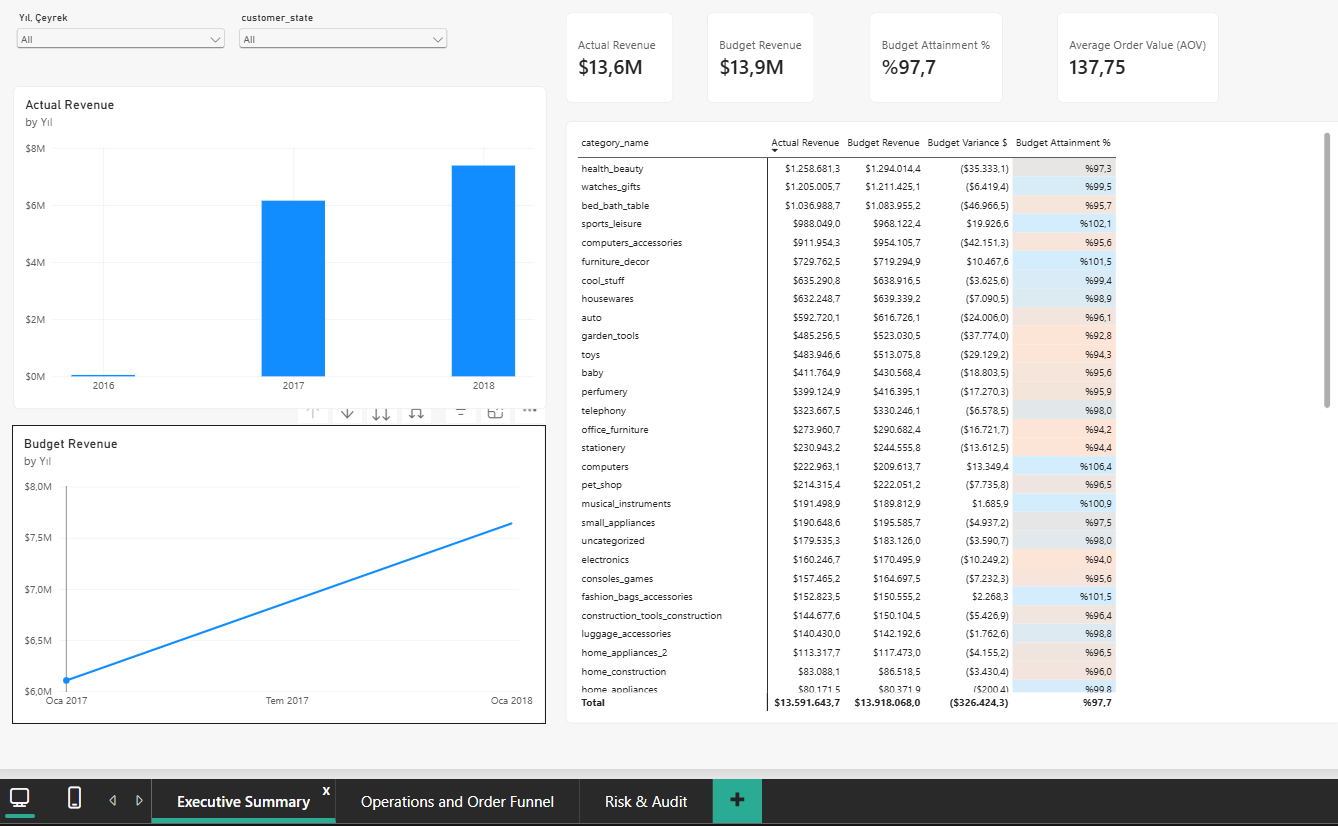

Layout of this report page (visuals, bound fields, positions):
{"tool":"powerbi","page":{"name":"Executive Summary","canvas":[1920,1080],"ordinal":0},"visuals":[{"type":"pivotTable","fields":{"Rows":["dim_category.category_name"],"Values":["_Measures.Actual Revenue","_Measures.Budget Revenue","_Measures.Budget Variance $","_Measures.Budget Attainment %"]},"box":[800,176,1084,840],"z":0},{"type":"slicer","fields":{"Values":["olist_analytics_warehouse dim_date.date_key.Variation.Tarih Hiyerarşisi.Yıl","olist_analytics_warehouse dim_date.date_key.Variation.Tarih Hiyerarşisi.Çeyrek"]},"box":[30,22.7,300,55.5],"z":1000},{"type":"slicer","fields":{"Values":["olist_analytics_warehouse dim_customers.customer_state"]},"box":[340,23,300,300],"z":2000},{"type":"cardVisual","fields":{"Data":["_Measures.Actual Revenue"]},"box":[800,24,150,126],"z":3000},{"type":"cardVisual","fields":{"Data":["_Measures.Budget Revenue"]},"box":[998,24,150,126],"z":4000},{"type":"cardVisual","fields":{"Data":["_Measures.Budget Attainment %"]},"box":[1224,24,186,126],"z":5000},{"type":"cardVisual","fields":{"Data":["_Measures.Average Order Value (AOV)"]},"box":[1486,24,226,126],"z":6000},{"type":"lineChart","fields":{"Category":["olist_analytics_warehouse dim_date.date_key.Variation.Tarih Hiyerarşisi.Yıl","olist_analytics_warehouse dim_date.date_key.Variation.Tarih Hiyerarşisi.Çeyrek","olist_analytics_warehouse dim_date.date_key.Variation.Tarih Hiyerarşisi.Ay","olist_analytics_warehouse dim_date.date_key.Variation.Tarih Hiyerarşisi.Gün"],"Y":["_Measures.Budget Revenue"]},"box":[28,600,744,416.8],"z":7000},{"type":"clusteredColumnChart","fields":{"Category":["olist_analytics_warehouse dim_date.date_key.Variation.Tarih Hiyerarşisi.Yıl","olist_analytics_warehouse dim_date.date_key.Variation.Tarih Hiyerarşisi.Çeyrek","olist_analytics_warehouse dim_date.date_key.Variation.Tarih Hiyerarşisi.Ay","olist_analytics_warehouse dim_date.date_key.Variation.Tarih Hiyerarşisi.Gün"],"Y":["_Measures.Actual Revenue"]},"box":[30,128,744,450],"z":8000}]}

Visuals, with their boxes on the page's 1920x1080 design canvas (x1, y1, x2, y2). These are canvas units, not pixel positions in the 1338x826 screenshot, which may show the page scaled, cropped or inside an application window:
pivotTable - dim_category.category_name x _Measures.Actual Revenue: x1=800, y1=176, x2=1884, y2=1016
slicer - olist_analytics_warehouse dim_date.date_key.Variation.Tarih Hiyerarşisi.Yıl x olist_analytics_warehouse dim_date.date_key.Variation.Tarih Hiyerarşisi.Çeyrek: x1=30, y1=23, x2=330, y2=78
slicer - olist_analytics_warehouse dim_customers.customer_state: x1=340, y1=23, x2=640, y2=323
cardVisual - _Measures.Actual Revenue: x1=800, y1=24, x2=950, y2=150
cardVisual - _Measures.Budget Revenue: x1=998, y1=24, x2=1148, y2=150
cardVisual - _Measures.Budget Attainment %: x1=1224, y1=24, x2=1410, y2=150
cardVisual - _Measures.Average Order Value (AOV): x1=1486, y1=24, x2=1712, y2=150
lineChart - olist_analytics_warehouse dim_date.date_key.Variation.Tarih Hiyerarşisi.Yıl x olist_analytics_warehouse dim_date.date_key.Variation.Tarih Hiyerarşisi.Çeyrek: x1=28, y1=600, x2=772, y2=1017
clusteredColumnChart - olist_analytics_warehouse dim_date.date_key.Variation.Tarih Hiyerarşisi.Yıl x olist_analytics_warehouse dim_date.date_key.Variation.Tarih Hiyerarşisi.Çeyrek: x1=30, y1=128, x2=774, y2=578
